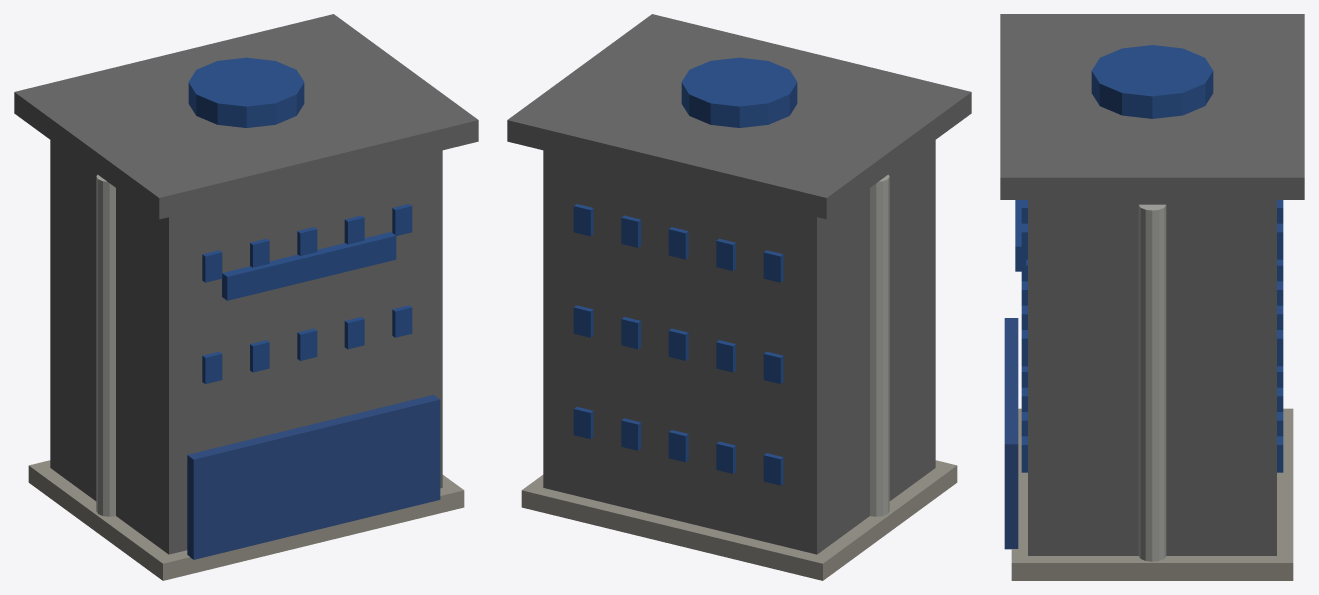
File: bld_commercial_a09.glb
3 views of the same model, side by side, from view 1: azimuth 30°, elevation 25°; view 2: azimuth 150°, elevation 25°; view 3: azimuth 270°, elevation 25° (orthographic). The views are drawn at different scales.
Visible parts, largest first — view 1: body; view 2: body; view 3: body.
Boxes of the visible parts, left/top/right/bottom form: body: left=14, top=14, right=478, bottom=580; body: left=507, top=14, right=971, bottom=580; body: left=1000, top=14, right=1304, bottom=580.
Size of what is drawn, in the model's own units: 7 by 8.65 by 5.5.
